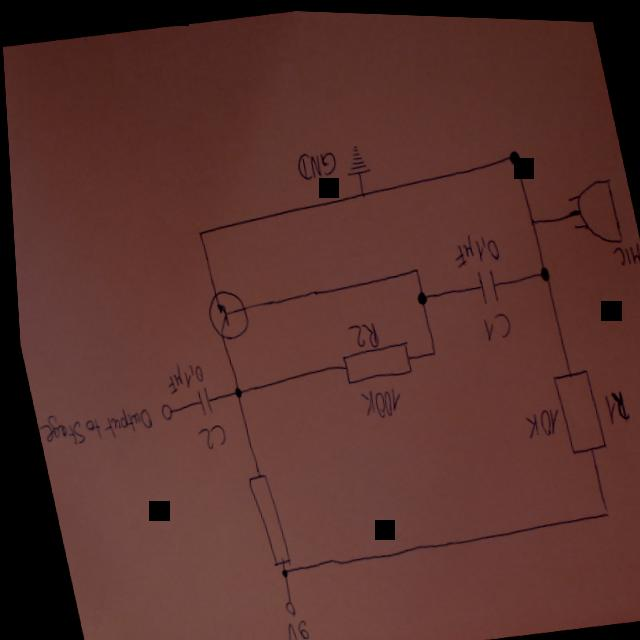capacitor: (469, 260, 504, 306), (187, 383, 213, 417)
ground: (342, 142, 372, 178)
junction: (504, 144, 524, 167), (412, 286, 428, 307), (535, 261, 550, 280), (229, 384, 241, 400), (526, 211, 538, 227), (425, 345, 436, 358), (194, 227, 205, 240), (274, 566, 284, 578), (597, 504, 607, 515), (410, 263, 418, 273), (358, 188, 366, 197)
resistor: (546, 358, 605, 453), (241, 468, 288, 570), (335, 336, 412, 385)
terminal: (154, 400, 172, 424), (277, 597, 292, 617)
text: (35, 399, 157, 453), (448, 226, 501, 268), (354, 382, 402, 421), (293, 145, 339, 182), (517, 401, 560, 439), (160, 359, 204, 396), (343, 317, 379, 351), (598, 384, 628, 424), (478, 309, 511, 343), (191, 422, 225, 452), (607, 237, 640, 266), (275, 617, 307, 640)
transistor: (197, 287, 251, 344)
